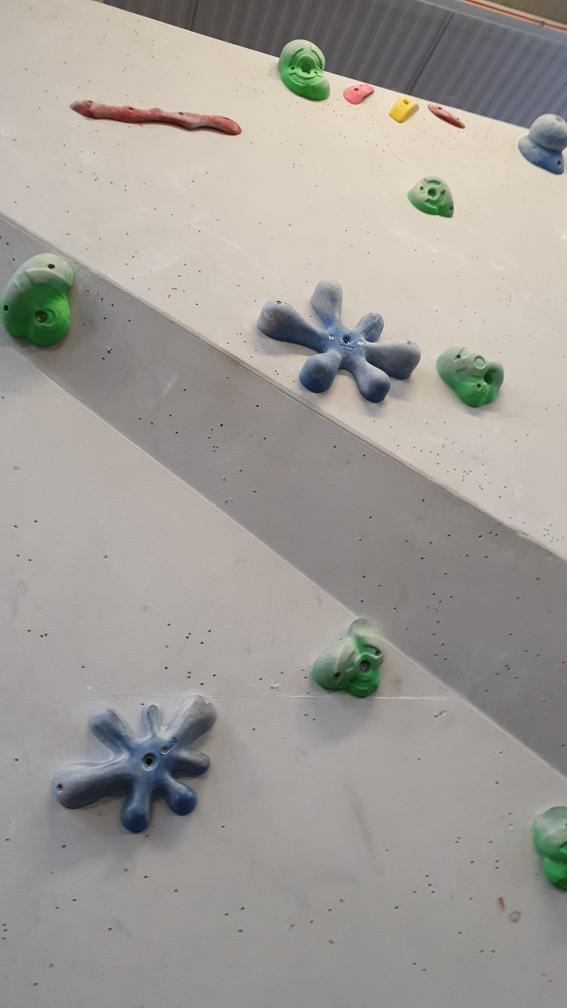Crimp: (425, 99, 466, 131), (347, 83, 376, 105)
Jug: (1, 242, 77, 351), (305, 615, 388, 700), (433, 340, 505, 411), (276, 32, 336, 109), (408, 171, 458, 223)
Octopus Pinch: (52, 685, 222, 834), (257, 272, 423, 405)
Sloper: (514, 105, 567, 174)
